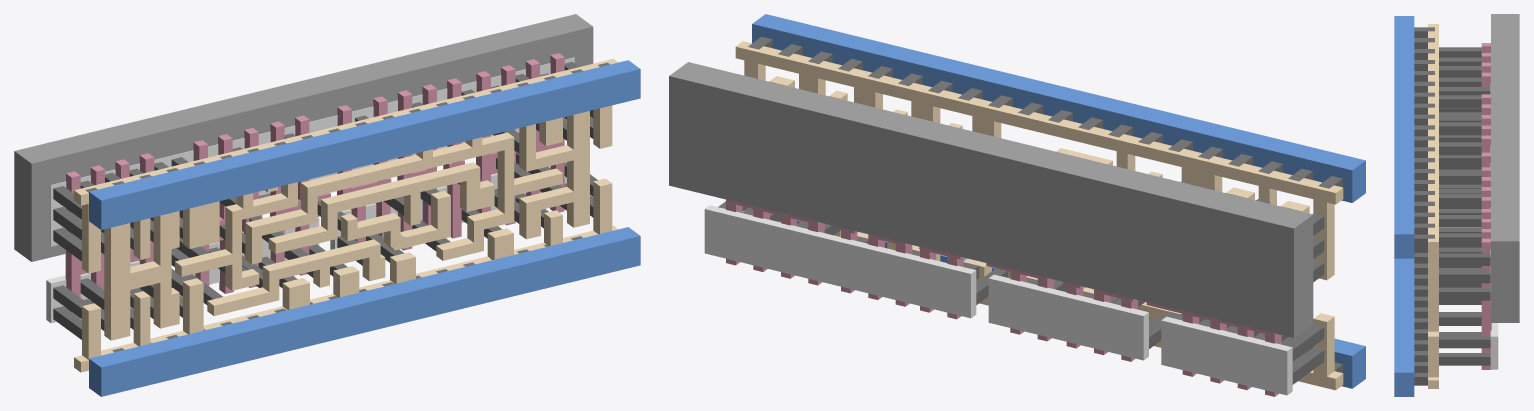
The model's file is sky130_fd_sc_hd__ha_4.gds.gltf.
The picture shows the model from 3 angles, left to right: view 1: azimuth 30°, elevation 25°; view 2: azimuth 150°, elevation 25°; view 3: azimuth 270°, elevation 25°; orthographic projection. The views are drawn at different scales.
Visible parts, largest first — view 1: sky130_fd_sc_hd__ha_4_li1, sky130_fd_sc_hd__ha_4_met1, sky130_fd_sc_hd__ha_4_nwell, sky130_fd_sc_hd__ha_4_poly, sky130_fd_sc_hd__ha_4_licon, sky130_fd_sc_hd__ha_4_diff, sky130_fd_sc_hd__ha_4_mcon; view 2: sky130_fd_sc_hd__ha_4_nwell, sky130_fd_sc_hd__ha_4_diff, sky130_fd_sc_hd__ha_4_met1, sky130_fd_sc_hd__ha_4_li1, sky130_fd_sc_hd__ha_4_poly, sky130_fd_sc_hd__ha_4_licon, sky130_fd_sc_hd__ha_4_mcon; view 3: sky130_fd_sc_hd__ha_4_licon, sky130_fd_sc_hd__ha_4_nwell, sky130_fd_sc_hd__ha_4_met1, sky130_fd_sc_hd__ha_4_mcon, sky130_fd_sc_hd__ha_4_li1, sky130_fd_sc_hd__ha_4_poly, sky130_fd_sc_hd__ha_4_diff.
Boxes of the visible parts, left/top/right/bottom form: sky130_fd_sc_hd__ha_4_li1: left=74, top=58, right=618, bottom=372; sky130_fd_sc_hd__ha_4_met1: left=89, top=60, right=640, bottom=396; sky130_fd_sc_hd__ha_4_nwell: left=14, top=14, right=593, bottom=261; sky130_fd_sc_hd__ha_4_poly: left=65, top=53, right=564, bottom=318; sky130_fd_sc_hd__ha_4_licon: left=53, top=62, right=597, bottom=339; sky130_fd_sc_hd__ha_4_diff: left=46, top=57, right=574, bottom=323; sky130_fd_sc_hd__ha_4_mcon: left=85, top=62, right=609, bottom=352; sky130_fd_sc_hd__ha_4_nwell: left=669, top=62, right=1313, bottom=337; sky130_fd_sc_hd__ha_4_diff: left=704, top=205, right=1292, bottom=395; sky130_fd_sc_hd__ha_4_met1: left=752, top=14, right=1365, bottom=388; sky130_fd_sc_hd__ha_4_li1: left=735, top=41, right=1343, bottom=390; sky130_fd_sc_hd__ha_4_poly: left=726, top=199, right=1281, bottom=396; sky130_fd_sc_hd__ha_4_licon: left=718, top=75, right=1324, bottom=384; sky130_fd_sc_hd__ha_4_mcon: left=748, top=36, right=1342, bottom=372; sky130_fd_sc_hd__ha_4_licon: left=1439, top=47, right=1490, bottom=365; sky130_fd_sc_hd__ha_4_nwell: left=1491, top=14, right=1519, bottom=322; sky130_fd_sc_hd__ha_4_met1: left=1394, top=16, right=1414, bottom=396; sky130_fd_sc_hd__ha_4_mcon: left=1414, top=27, right=1434, bottom=385; sky130_fd_sc_hd__ha_4_li1: left=1428, top=24, right=1438, bottom=388; sky130_fd_sc_hd__ha_4_poly: left=1481, top=43, right=1491, bottom=369; sky130_fd_sc_hd__ha_4_diff: left=1490, top=83, right=1498, bottom=369.
Bounding box in the file's own units: 9.58 × 3.2 × 2.24.
